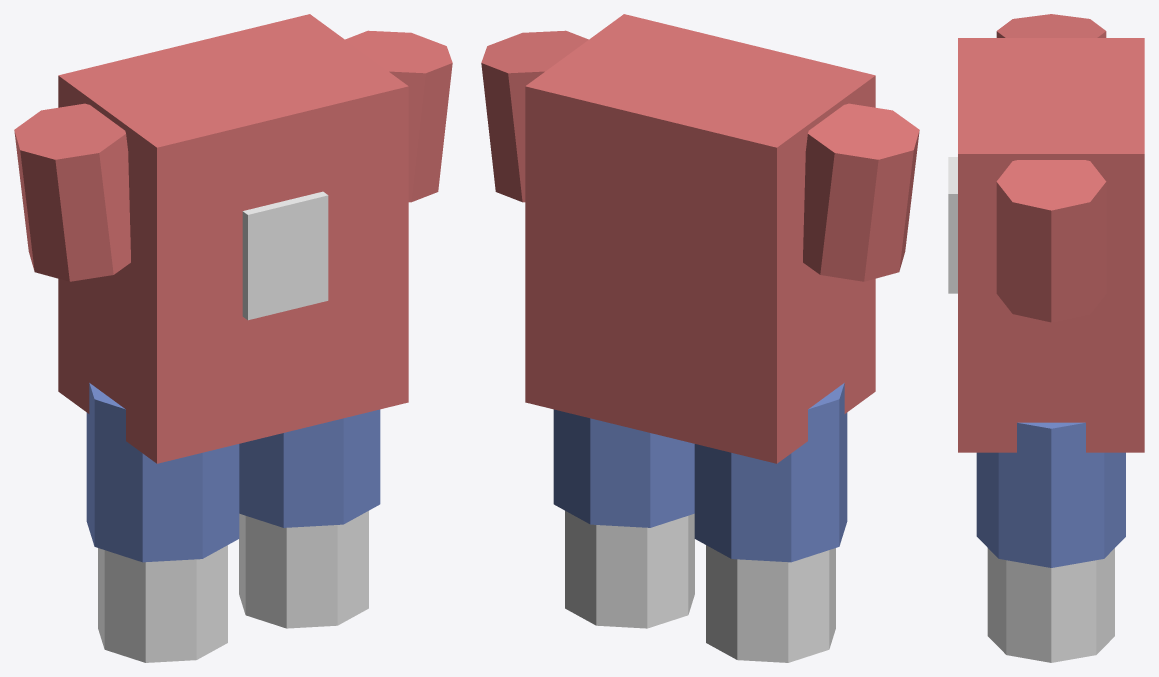
The model's file is football.glb.
The picture shows the model from 3 angles, left to right: view 1: azimuth 30°, elevation 25°; view 2: azimuth 150°, elevation 25°; view 3: azimuth 270°, elevation 25°; orthographic projection. The views are drawn at different scales.
Parts seen in each view (by area): view 1: top, pant, sleeve, pant.001, sock, sock.001, number, sleeve.001; view 2: top, pant, sleeve, pant.001, sock, sock.001, sleeve.001; view 3: top, pant.001, sleeve.001, sock.001, sleeve, number.
Boxes of the visible parts, x1,y1,x2,y2 form: top: [58, 14, 408, 463]; pant: [86, 383, 239, 562]; sleeve: [14, 103, 130, 281]; pant.001: [239, 409, 380, 527]; sock: [98, 545, 227, 662]; sock.001: [239, 511, 368, 628]; number: [242, 191, 328, 320]; sleeve.001: [345, 30, 452, 202]; top: [525, 14, 875, 463]; pant: [694, 383, 847, 562]; sleeve: [803, 103, 919, 281]; pant.001: [553, 409, 694, 527]; sock: [706, 545, 835, 662]; sock.001: [565, 511, 694, 628]; sleeve.001: [481, 30, 588, 202]; top: [958, 38, 1144, 452]; pant.001: [976, 422, 1125, 567]; sleeve.001: [996, 160, 1106, 322]; sock.001: [987, 548, 1114, 662]; sleeve: [996, 14, 1106, 37]; number: [948, 157, 957, 293].
Bounding box in the file's own units: 0.4236 × 0.51 × 0.179.
